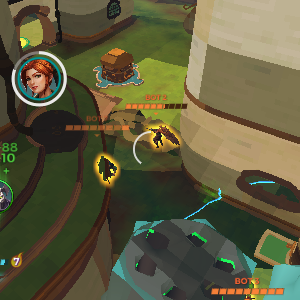model: (93, 153, 120, 187), (147, 120, 173, 150)
